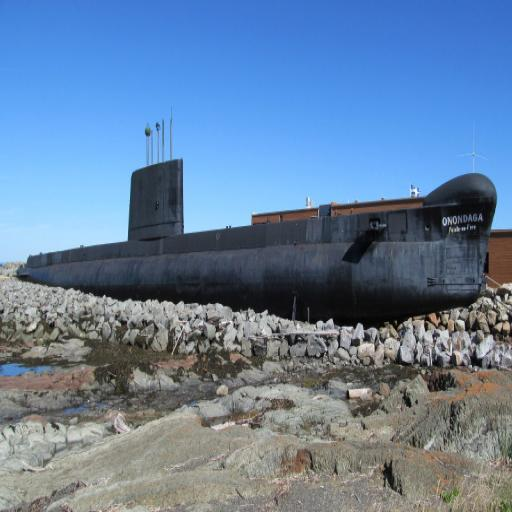submarine: (17, 159, 500, 297)
